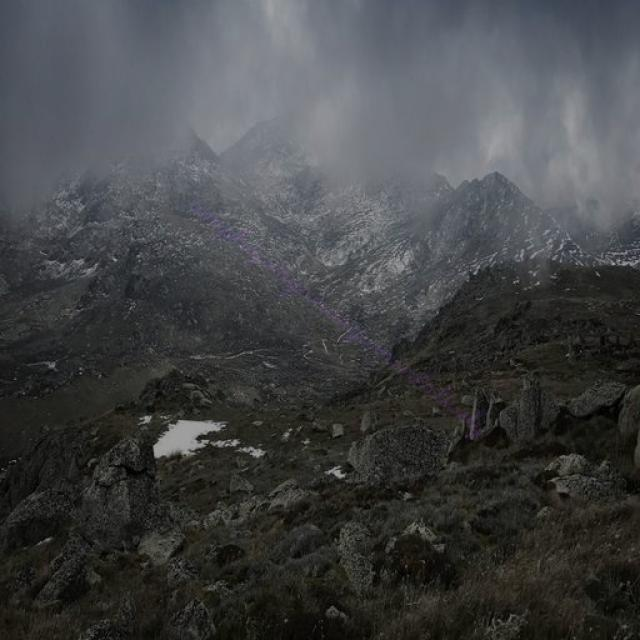watermark: (180, 184, 506, 444)
